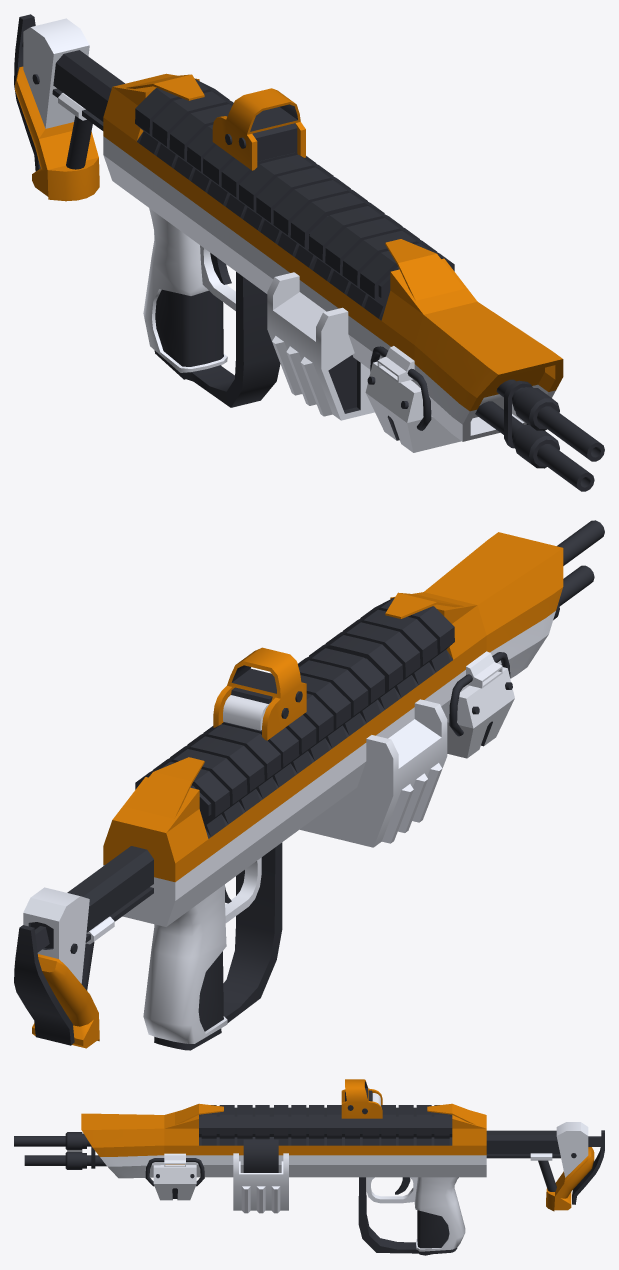
The picture shows the model from 3 angles, top to bottom: view 1: azimuth 30°, elevation 25°; view 2: azimuth 150°, elevation 25°; view 3: azimuth 270°, elevation 25°; orthographic projection. The views are drawn at different scales.
Parts seen in each view (by area): view 1: mergedBlocks; view 2: mergedBlocks; view 3: mergedBlocks.
Part boxes in pixels (x1,y1,x2,y2): mergedBlocks: [14, 14, 604, 491]; mergedBlocks: [14, 520, 604, 1050]; mergedBlocks: [14, 1079, 604, 1255].
Bounding box in the file's own units: 0.77 × 1.74 × 5.5.
